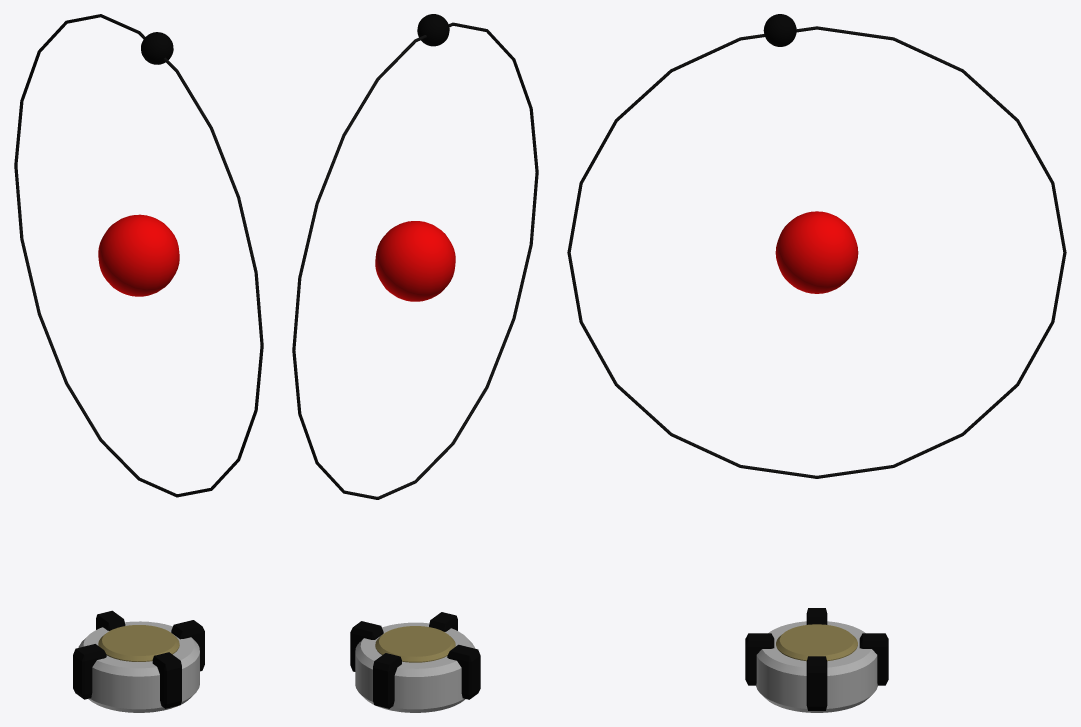
Rendered from hydrogenatom 1.fbx.
The picture shows the model from 3 angles, left to right: view 1: azimuth 30°, elevation 25°; view 2: azimuth 150°, elevation 25°; view 3: azimuth 270°, elevation 25°; orthographic projection.
Visible parts, largest first — view 1: pCylinder4, pSphere1, pTorus1, pSphere2; view 2: pCylinder4, pSphere1, pTorus1, pSphere2; view 3: pCylinder4, pTorus1, pSphere1, pSphere2.
Part boxes in pixels (left/top/right/bottom): pCylinder4: left=73, top=610, right=204, bottom=712; pSphere1: left=98, top=214, right=179, bottom=296; pTorus1: left=14, top=14, right=263, bottom=497; pSphere2: left=141, top=32, right=173, bottom=64; pCylinder4: left=350, top=612, right=480, bottom=712; pSphere1: left=375, top=221, right=455, bottom=301; pTorus1: left=292, top=22, right=538, bottom=499; pSphere2: left=417, top=14, right=449, bottom=46; pCylinder4: left=745, top=608, right=888, bottom=712; pTorus1: left=567, top=26, right=1066, bottom=478; pSphere1: left=775, top=211, right=858, bottom=293; pSphere2: left=763, top=14, right=796, bottom=46.
Bounding box in the file's own units: 8.66 × 44.98 × 30.2.
